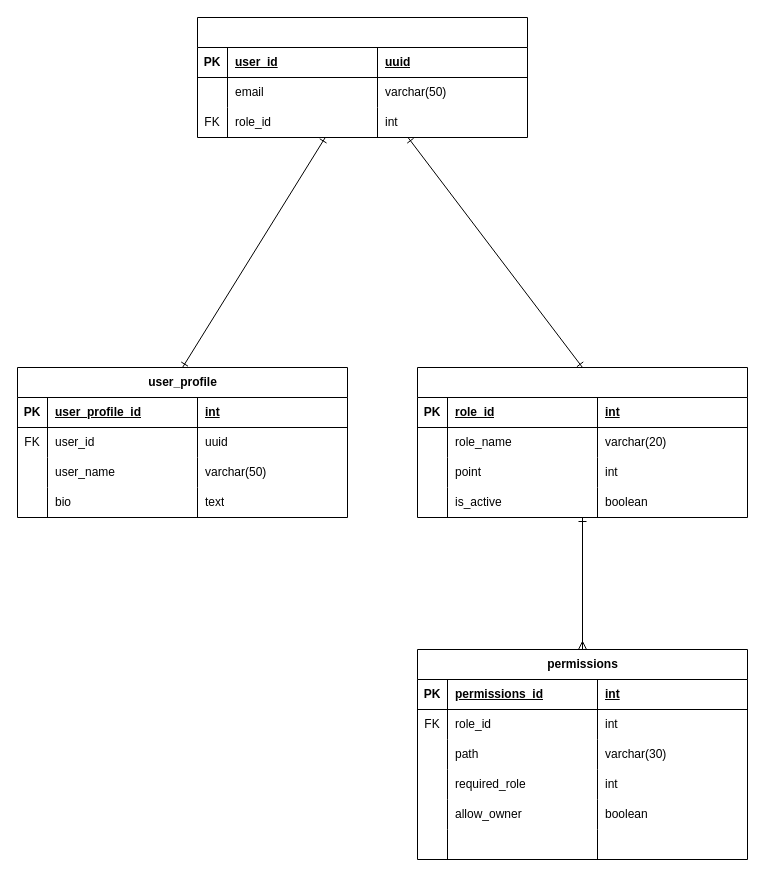
Some shapes in this 765 by 877 pixel diagram are drawn without their labels. Each missing label, with the box of its shape:
roles: (416, 366, 748, 518)
users: (196, 16, 528, 138)
